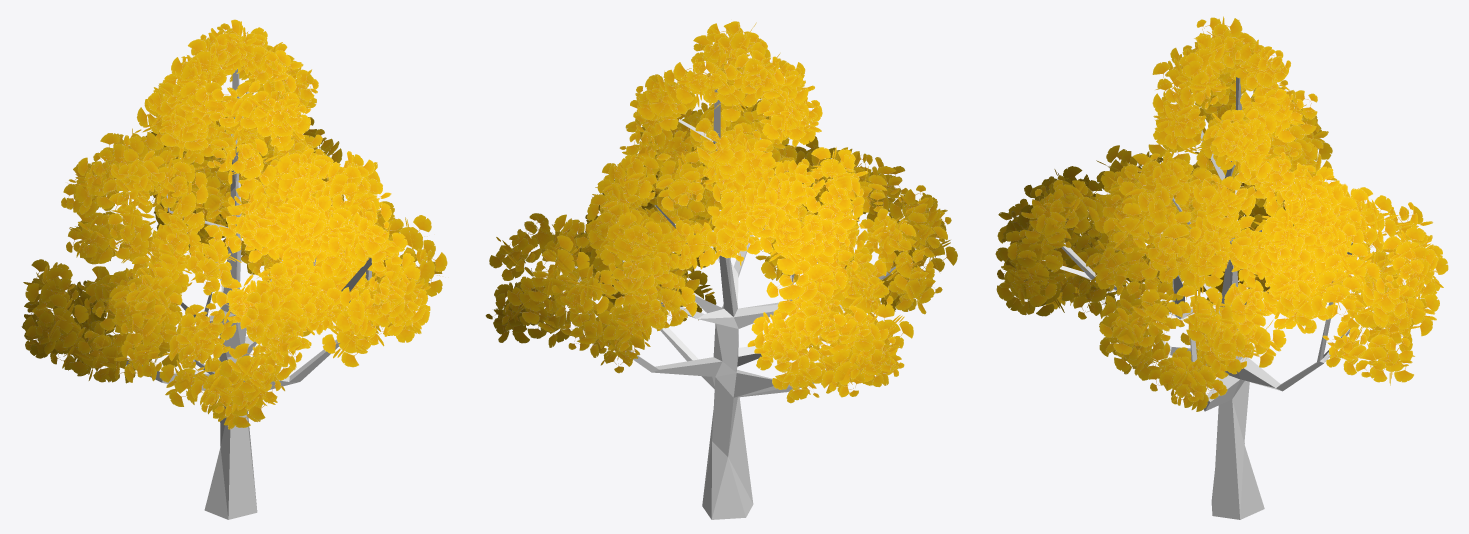
Rendered from ginkgo_ver1.fbx.
The picture shows the model from 3 angles, left to right: view 1: azimuth 30°, elevation 25°; view 2: azimuth 150°, elevation 25°; view 3: azimuth 270°, elevation 25°; orthographic projection.
Parts seen in each view (by area): view 1: ginkgo_leaves, ginkgo_trunk; view 2: ginkgo_leaves, ginkgo_trunk; view 3: ginkgo_leaves, ginkgo_trunk.
Part boxes in pixels (box(x1,y1,x2,y2)): ginkgo_leaves: box(21, 19, 447, 429); ginkgo_trunk: box(126, 69, 371, 519); ginkgo_leaves: box(485, 21, 957, 403); ginkgo_trunk: box(571, 89, 895, 519); ginkgo_leaves: box(995, 16, 1448, 411); ginkgo_trunk: box(1042, 77, 1352, 519).
Size of the model in its own units: 823 by 1025 by 871.
Materials: 1 (1 with a texture image).
